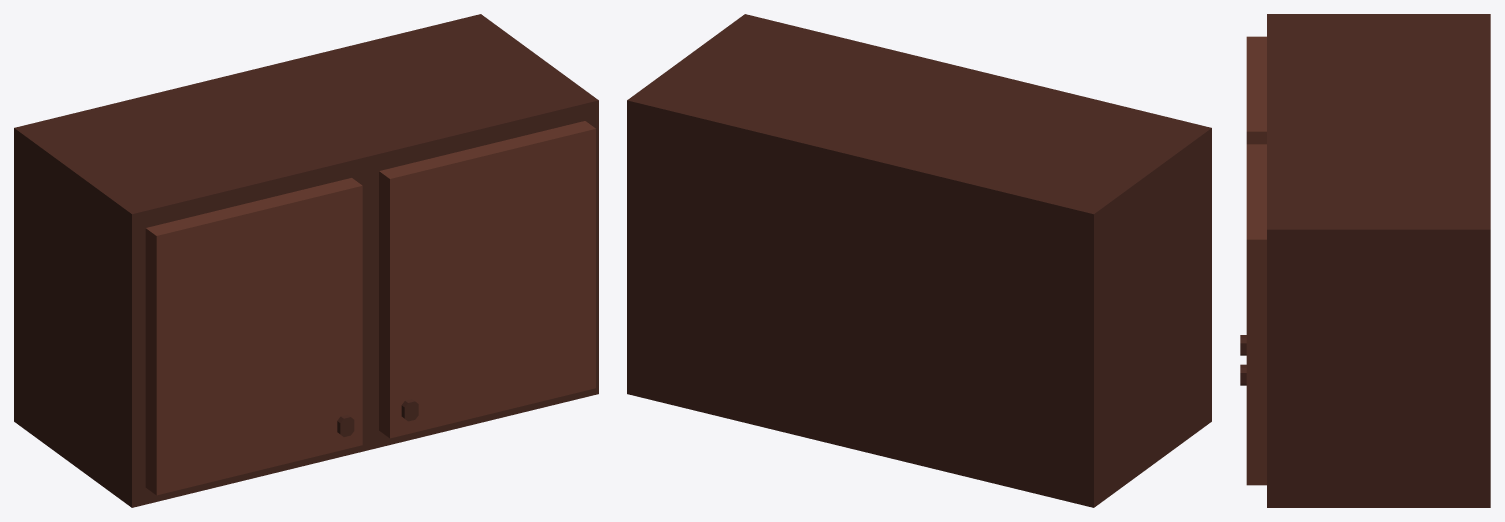
The model's file is Solid-Mesh-Cabinet3.FBX.
3 views of the same model, side by side, from view 1: azimuth 30°, elevation 25°; view 2: azimuth 150°, elevation 25°; view 3: azimuth 270°, elevation 25° (orthographic). The views are drawn at different scales.
Visible parts, largest first — view 1: pCube1; view 2: pCube1; view 3: pCube1.
Boxes of the visible parts, x1,y1,x2,y2 form: pCube1: (14,14,598,507); pCube1: (627,14,1211,507); pCube1: (1240,14,1490,507).
Bounding box in the file's own units: 36.86 × 22.16 × 18.06.
